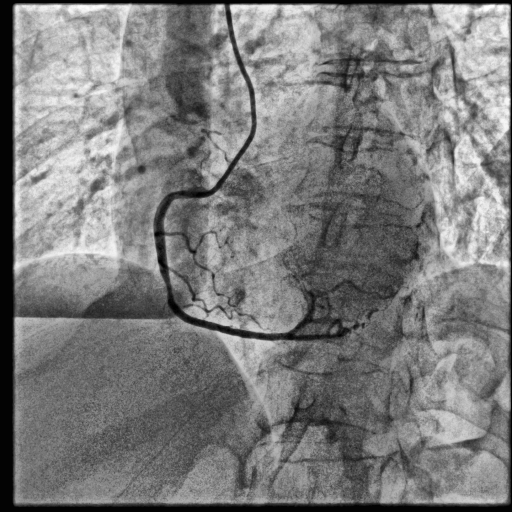pborca: (290, 293, 317, 335)
pda: (291, 319, 361, 341)
rca: (153, 161, 293, 341)
